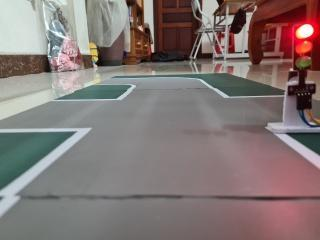red: (284, 21, 319, 92)
